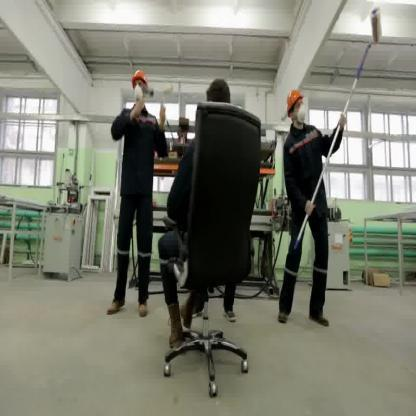helmet: (286, 88, 304, 118), (131, 69, 147, 87)
mask: (132, 83, 144, 105), (297, 104, 305, 122)
vest: (276, 119, 344, 317), (107, 103, 170, 306)
